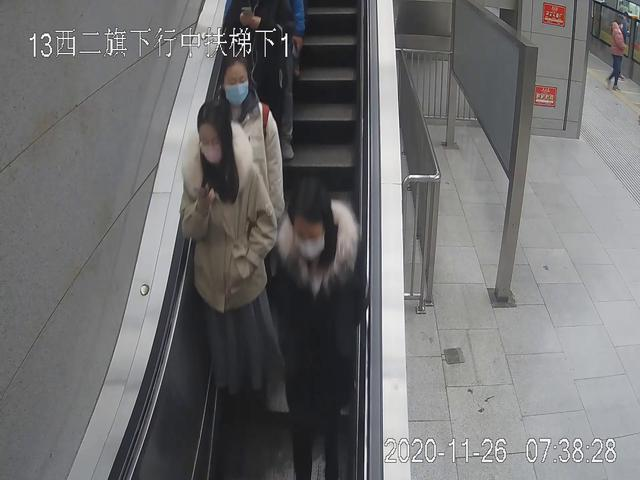person: (177, 103, 276, 422), (276, 185, 362, 480), (213, 58, 285, 356), (607, 15, 632, 90)
